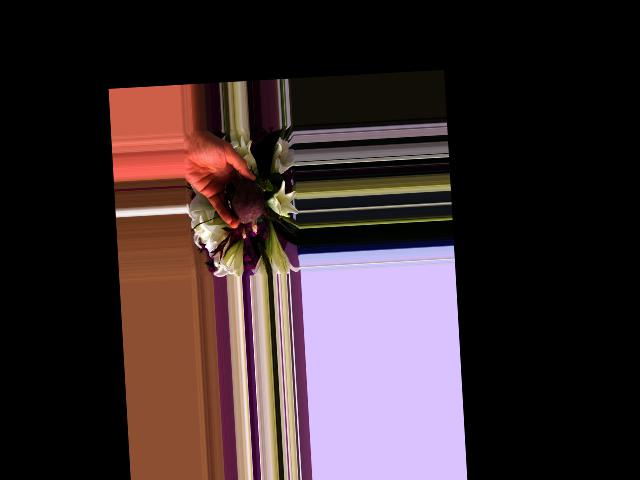beet: (223, 176, 296, 241)
